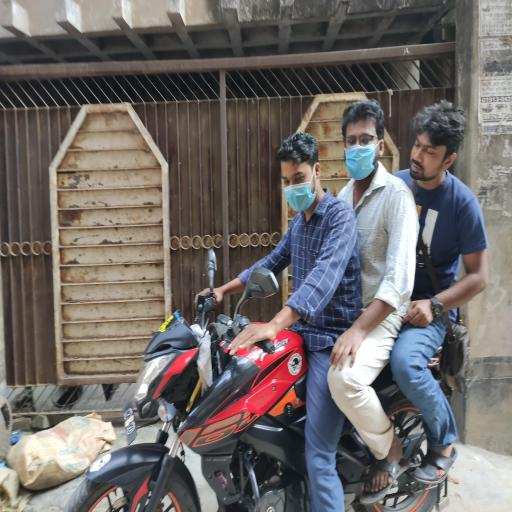overloading: (64, 259, 456, 510)
